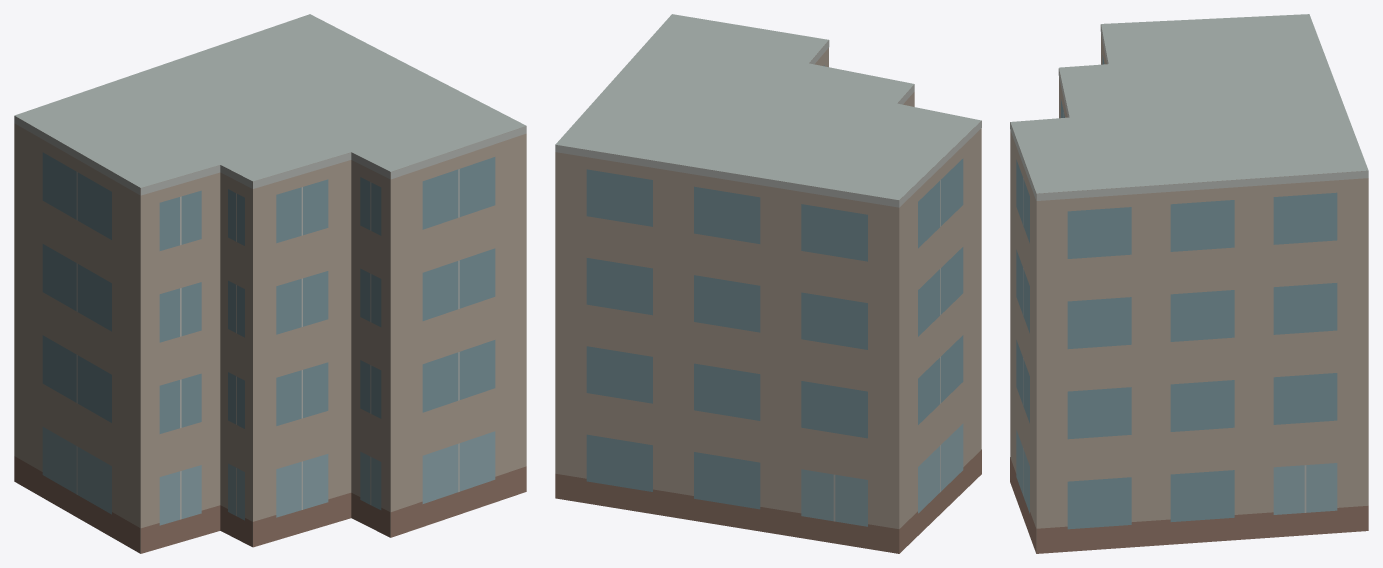
File: survey-upis-32704261.glb
3 views of the same model, side by side, from view 1: azimuth 30°, elevation 25°; view 2: azimuth 150°, elevation 25°; view 3: azimuth 270°, elevation 25° (orthographic). The views are drawn at different scales.
Parts seen in each view (by area): view 1: survey-upis-32704261.tmp; view 2: survey-upis-32704261.tmp; view 3: survey-upis-32704261.tmp.
Part boxes in pixels (x1,y1,x2,y2): survey-upis-32704261.tmp: [14, 14, 526, 553]; survey-upis-32704261.tmp: [555, 14, 981, 553]; survey-upis-32704261.tmp: [1010, 14, 1368, 553].
Bounding box in the file's own units: 12.52 × 11.7 × 10.56.
